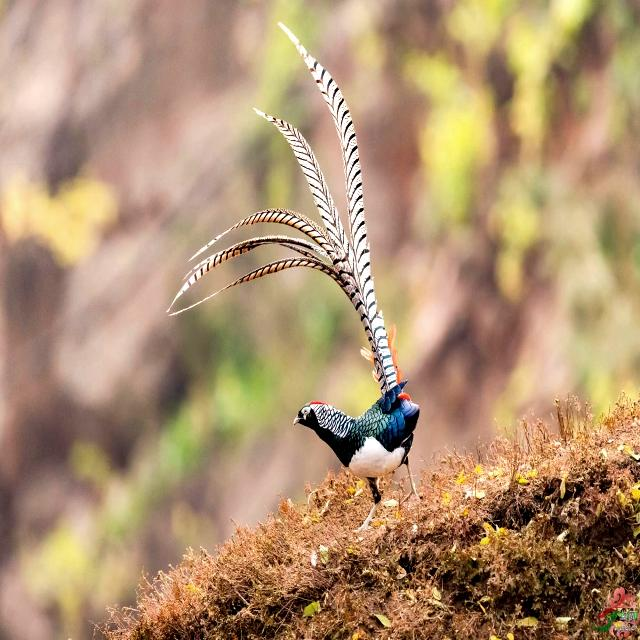Chrysolophus amherstiae: (175, 23, 399, 409)
